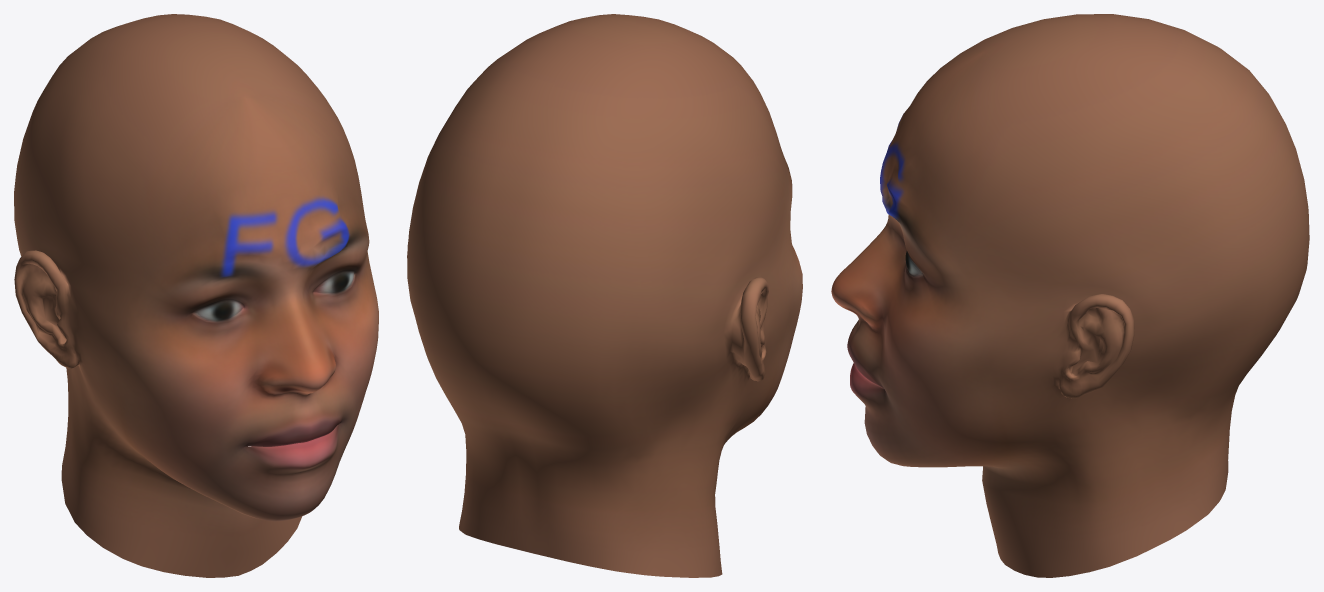
Rendered from avg_african_female.obj.
3 views of the same model, side by side, from view 1: azimuth 30°, elevation 25°; view 2: azimuth 150°, elevation 25°; view 3: azimuth 270°, elevation 25° (orthographic). The views are drawn at different scales.
Visible parts, largest first — view 1: HeadHires; view 2: HeadHires; view 3: HeadHires.
Boxes of the visible parts, x1=… form: HeadHires: x1=14, y1=14, x2=378, y2=577; HeadHires: x1=407, y1=14, x2=802, y2=577; HeadHires: x1=831, y1=14, x2=1309, y2=577.
Bounding box in the file's own units: 188 × 283 × 234.
Materials: 1 (1 with a texture image).
